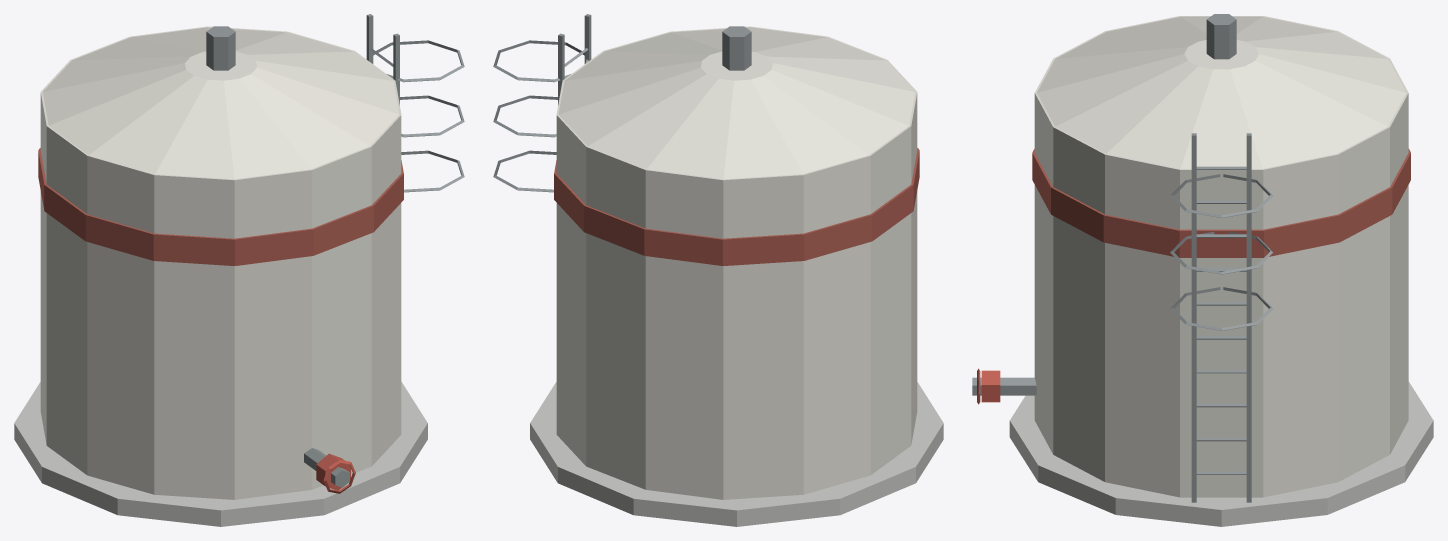
Rendered from isl_fuel_tank.fbx.
The picture shows the model from 3 angles, left to right: view 1: azimuth 30°, elevation 25°; view 2: azimuth 150°, elevation 25°; view 3: azimuth 270°, elevation 25°; orthographic projection. The views are drawn at different scales.
Visible parts, largest first — view 1: isl_fuel_tank; view 2: isl_fuel_tank; view 3: isl_fuel_tank.
Boxes of the visible parts, <box> form: isl_fuel_tank: <box>14,14,464,526</box>; isl_fuel_tank: <box>493,14,943,526</box>; isl_fuel_tank: <box>972,14,1433,526</box>.
Size of the model in its own units: 3.97 by 3.7 by 3.7.
